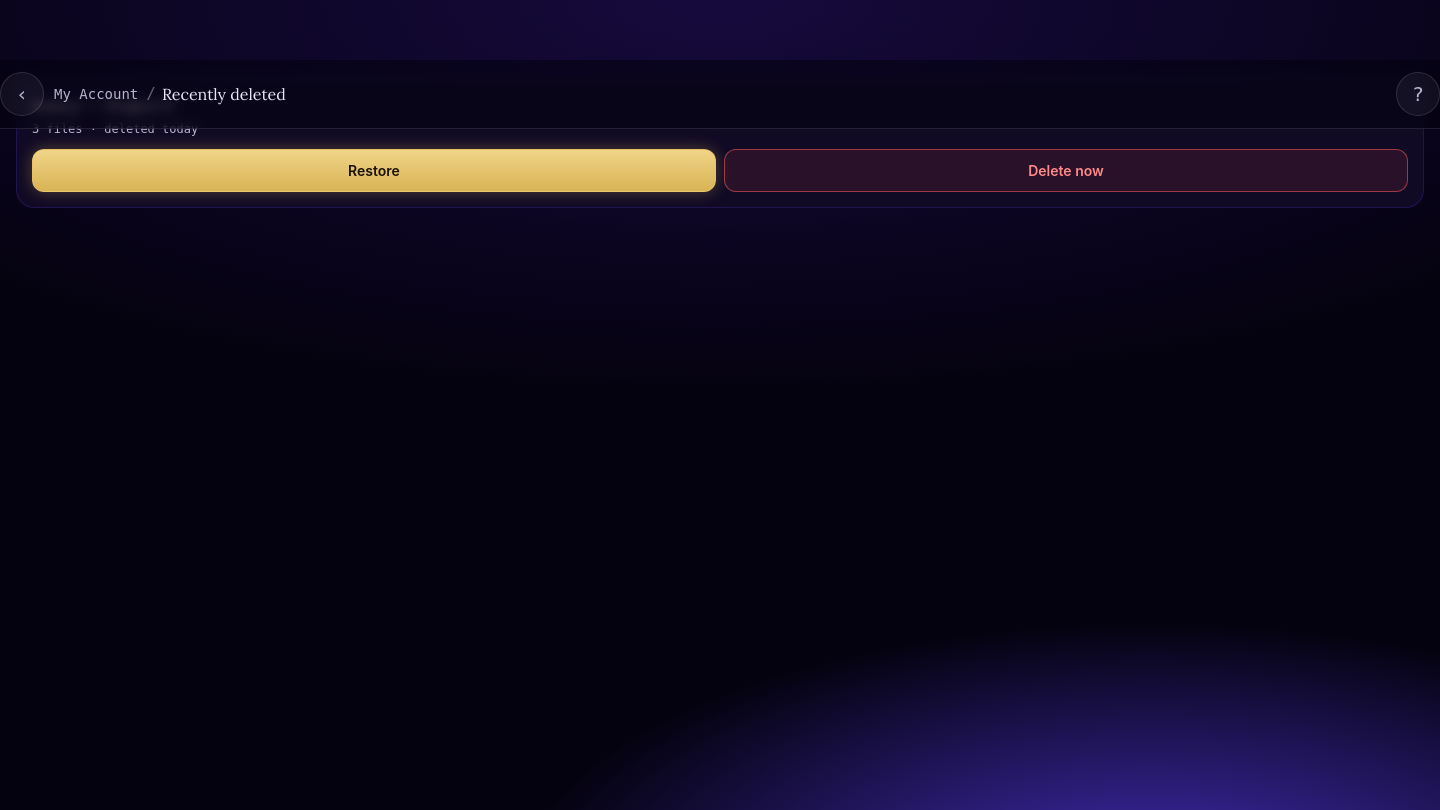
it: RecentlyDeletedPage — project cards › names the files in the purge confirmation
Step 1. Click the button "Delete now" → (1066, 170), box [724,149,1408,192]
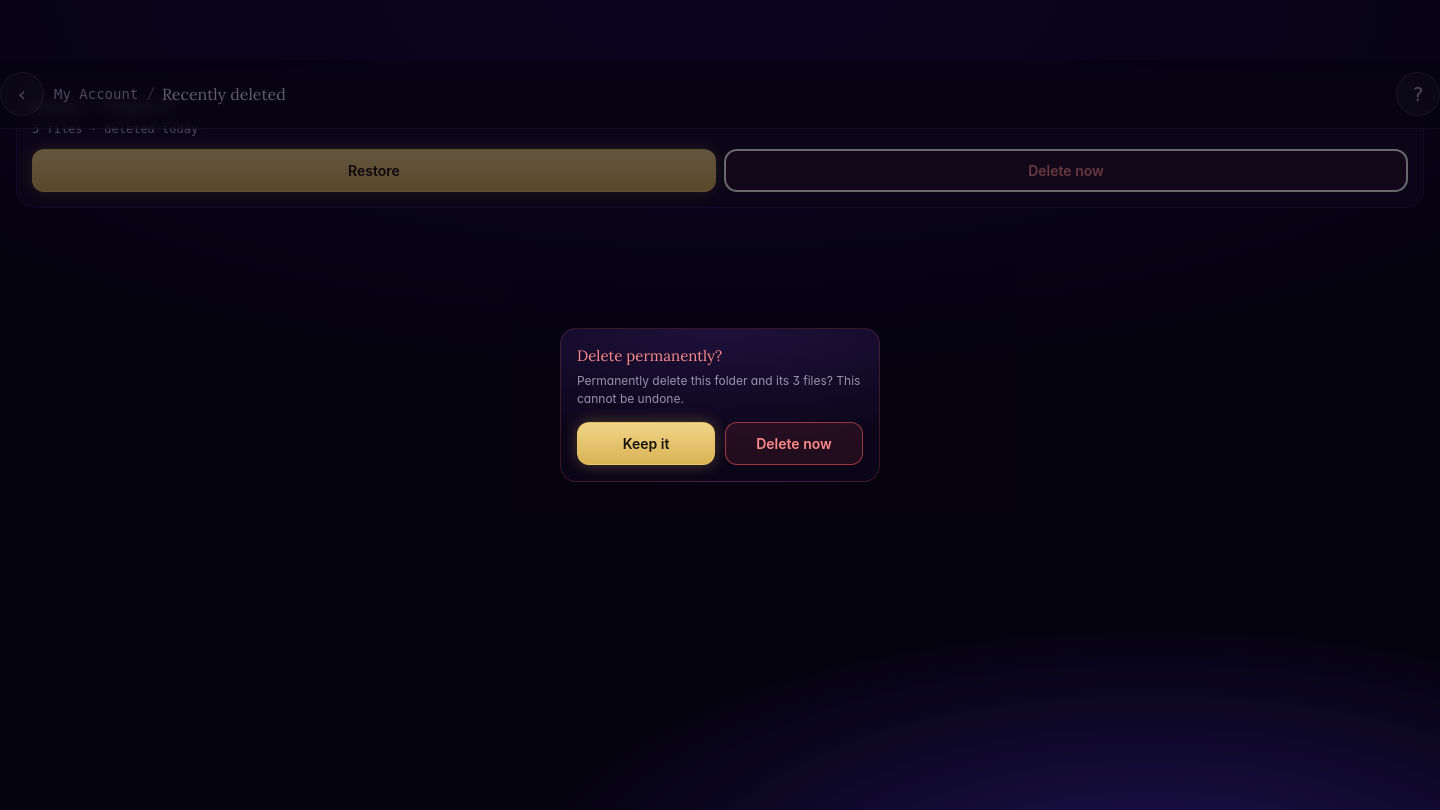
Result: the dialog shows "Permanently delete this folder and its 3 files? This cannot be undone." at [577,373,860,406]
